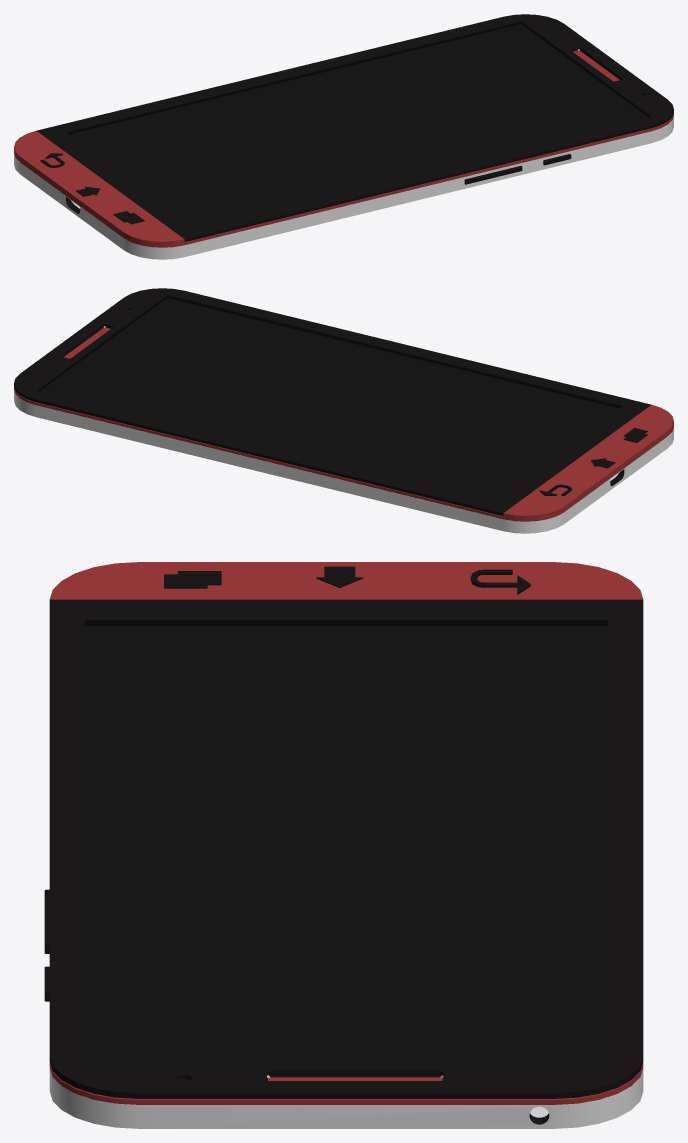
The model's file is phone.glb.
3 views of the same model, one above another, from view 1: azimuth 30°, elevation 25°; view 2: azimuth 150°, elevation 25°; view 3: azimuth 270°, elevation 25° (orthographic). The views are drawn at different scales.
Parts seen in each view (by area): view 1: Glass_Front, Phone_Font_Panel, Phone_Middle_Base, Phone_Back_Cover; view 2: Glass_Front, Phone_Font_Panel, Phone_Back_Cover, Phone_Middle_Base; view 3: Glass_Front, Phone_Font_Panel, Phone_Middle_Base, Phone_Back_Cover, Button_Task_manager.
Boxes of the visible parts, x1=… form: Glass_Front: x1=67, y1=22, x2=650, y2=227; Phone_Font_Panel: x1=36, y1=14, x2=673, y2=241; Phone_Middle_Base: x1=14, y1=50, x2=673, y2=247; Phone_Back_Cover: x1=14, y1=116, x2=673, y2=259; Glass_Front: x1=37, y1=296, x2=621, y2=501; Phone_Font_Panel: x1=14, y1=288, x2=651, y2=515; Phone_Back_Cover: x1=14, y1=390, x2=673, y2=533; Phone_Middle_Base: x1=14, y1=327, x2=673, y2=521; Glass_Front: x1=84, y1=621, x2=608, y2=1064; Phone_Font_Panel: x1=49, y1=599, x2=643, y2=1098; Phone_Middle_Base: x1=49, y1=562, x2=643, y2=1104; Phone_Back_Cover: x1=49, y1=1068, x2=643, y2=1128; Button_Task_manager: x1=164, y1=571, x2=221, y2=588.
Bounding box in the file's own units: 12.47 × 0.4193 × 5.94.
